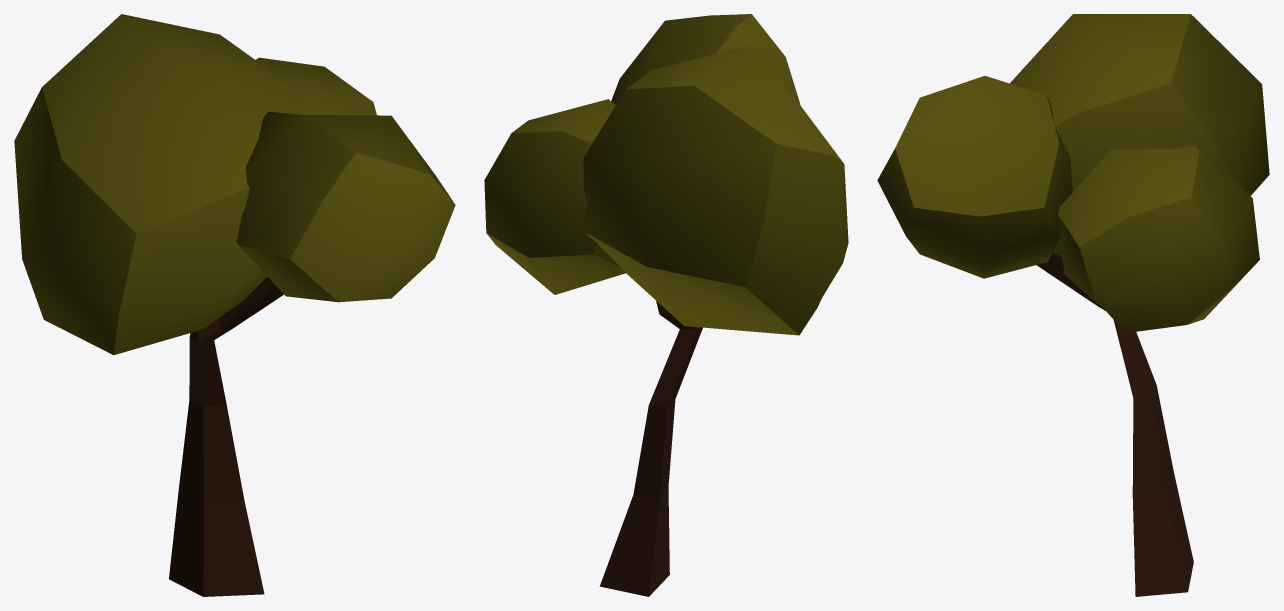
File: Forest01_Lowpoly Tree 3B.FBX
The picture shows the model from 3 angles, left to right: view 1: azimuth 30°, elevation 25°; view 2: azimuth 150°, elevation 25°; view 3: azimuth 270°, elevation 25°; orthographic projection. The views are drawn at different scales.
Parts seen in each view (by area): view 1: trunk4; view 2: trunk4; view 3: trunk4.
Part boxes in pixels (x1,y1,x2,y2): trunk4: [14, 14, 455, 596]; trunk4: [484, 14, 848, 596]; trunk4: [877, 14, 1269, 596].
Bounding box in the file's own units: 47.51 × 70.77 × 47.22.
